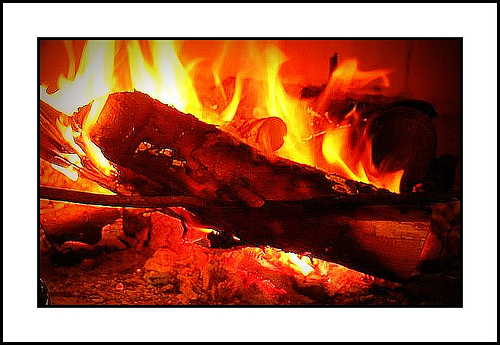fire: (49, 42, 431, 282)
